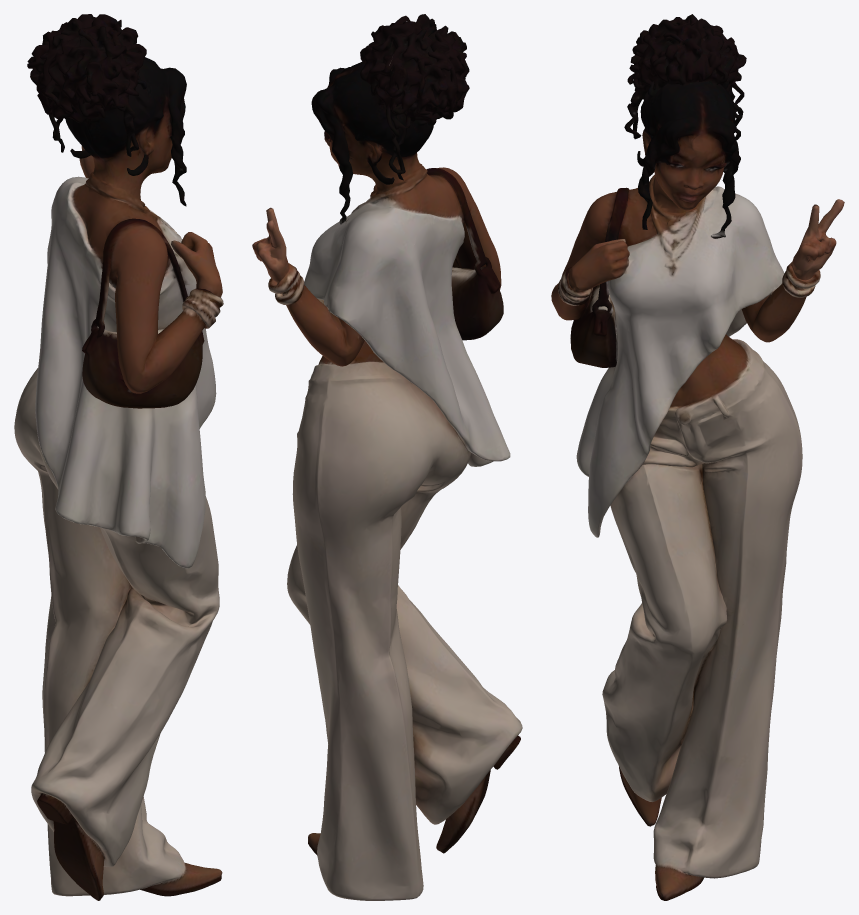
File: SHONDA.glb
The picture shows the model from 3 angles, left to right: view 1: azimuth 30°, elevation 25°; view 2: azimuth 150°, elevation 25°; view 3: azimuth 270°, elevation 25°; orthographic projection. The views are drawn at different scales.
Visible parts, largest first — view 1: tripo_node_990eb453-eb98-4125-9781-cd2af15e14ac; view 2: tripo_node_990eb453-eb98-4125-9781-cd2af15e14ac; view 3: tripo_node_990eb453-eb98-4125-9781-cd2af15e14ac.
Boxes of the visible parts, x1,y1,x2,y2 form: tripo_node_990eb453-eb98-4125-9781-cd2af15e14ac: [14, 14, 223, 900]; tripo_node_990eb453-eb98-4125-9781-cd2af15e14ac: [252, 14, 522, 900]; tripo_node_990eb453-eb98-4125-9781-cd2af15e14ac: [551, 14, 844, 900].
Bounding box in the file's own units: 0.2458 × 1 × 0.3199.
Materials: 1 (1 with a texture image).
